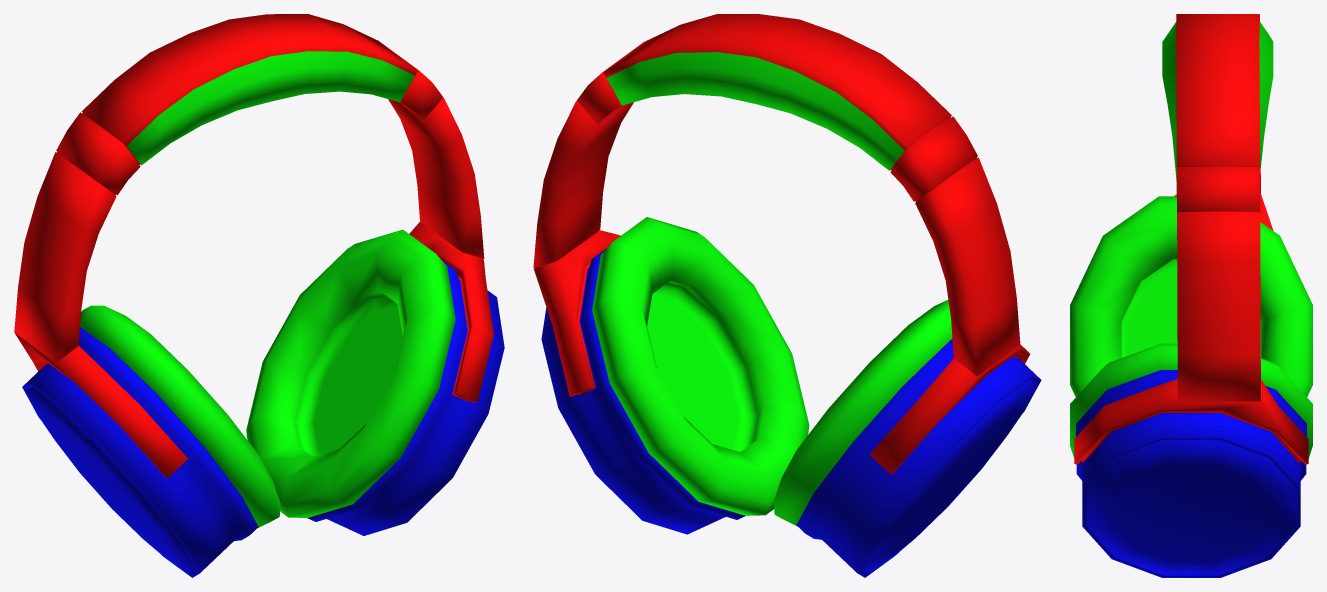
The model's file is HeadphoneCustomized.glb.
3 views of the same model, side by side, from view 1: azimuth 30°, elevation 25°; view 2: azimuth 150°, elevation 25°; view 3: azimuth 270°, elevation 25° (orthographic). The views are drawn at different scales.
Parts seen in each view (by area): view 1: Headphone; view 2: Headphone; view 3: Headphone.
Part boxes in pixels (box(x1,y1,x2,y2)): Headphone: box(14, 14, 504, 577); Headphone: box(533, 14, 1041, 577); Headphone: box(1070, 14, 1312, 577).
Bounding box in the file's own units: 1.87 × 2.04 × 0.9034.
Materials: 1 (1 with a texture image).
